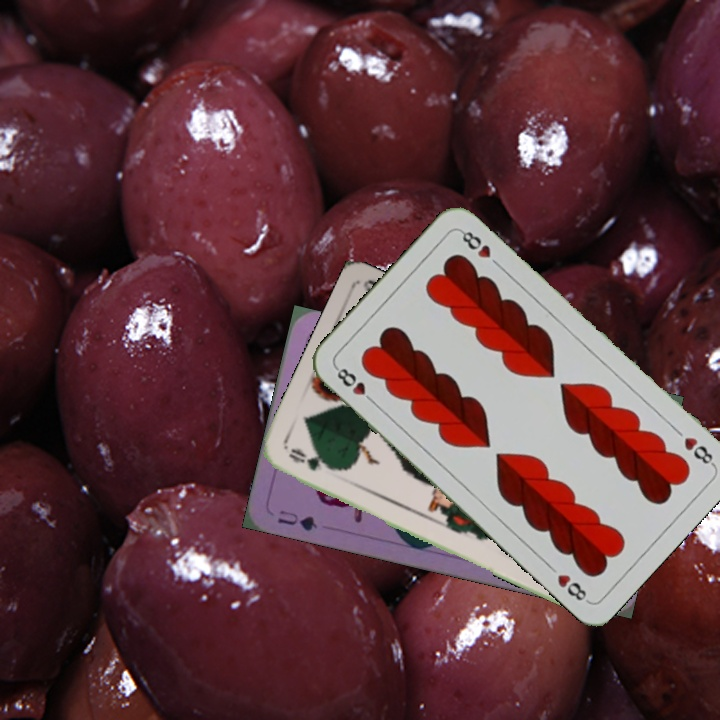GO: (284, 444, 341, 474)
GU: (273, 506, 320, 534)
H8: (331, 363, 379, 408), (680, 433, 717, 468)
